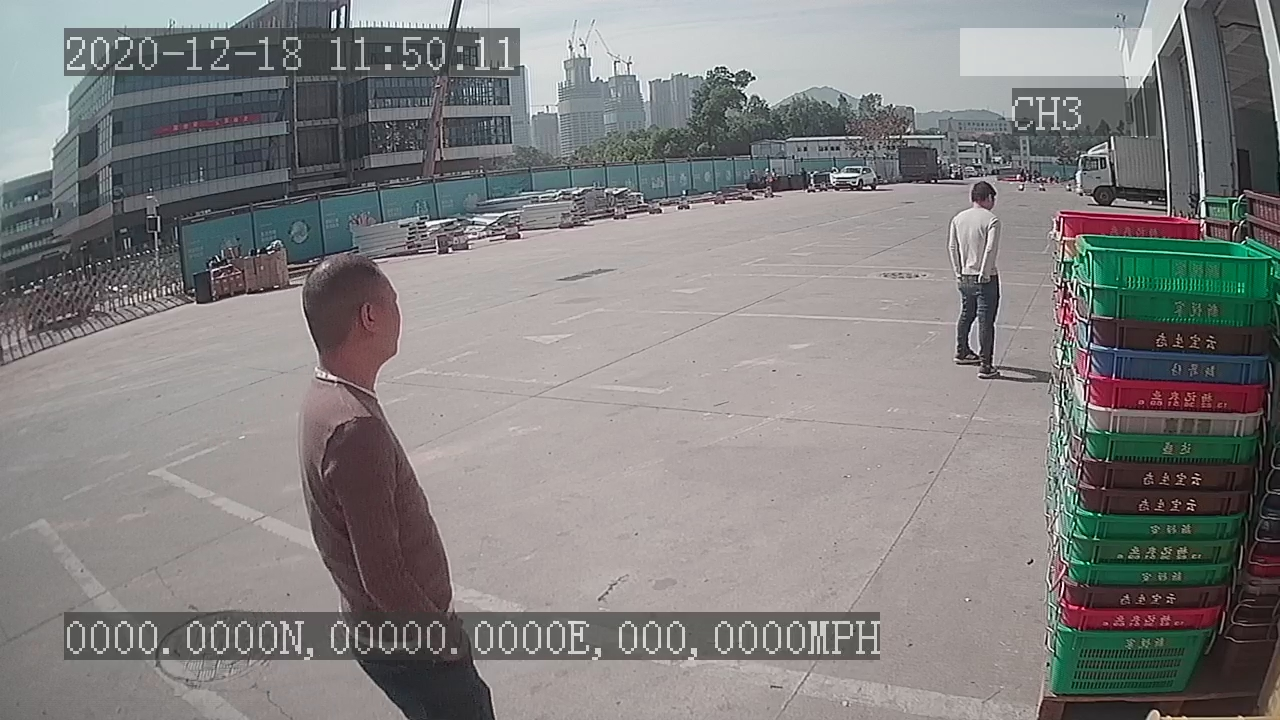person: (942, 179, 1011, 383)
